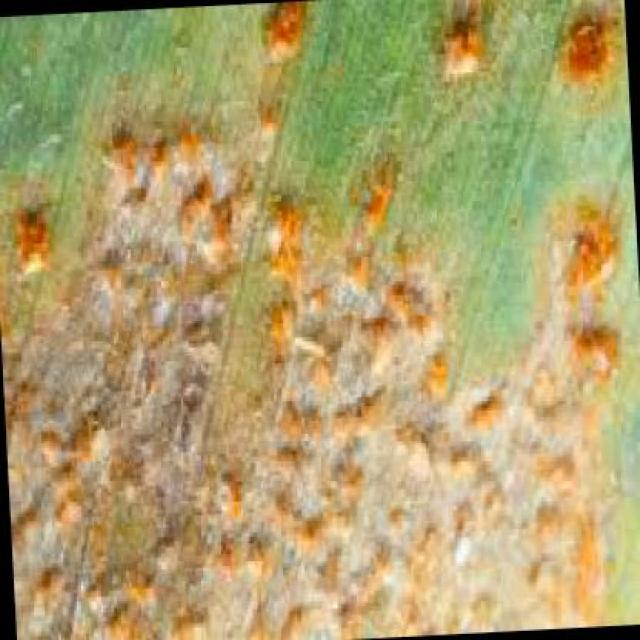Corn_Rust: (40, 28, 618, 614)
